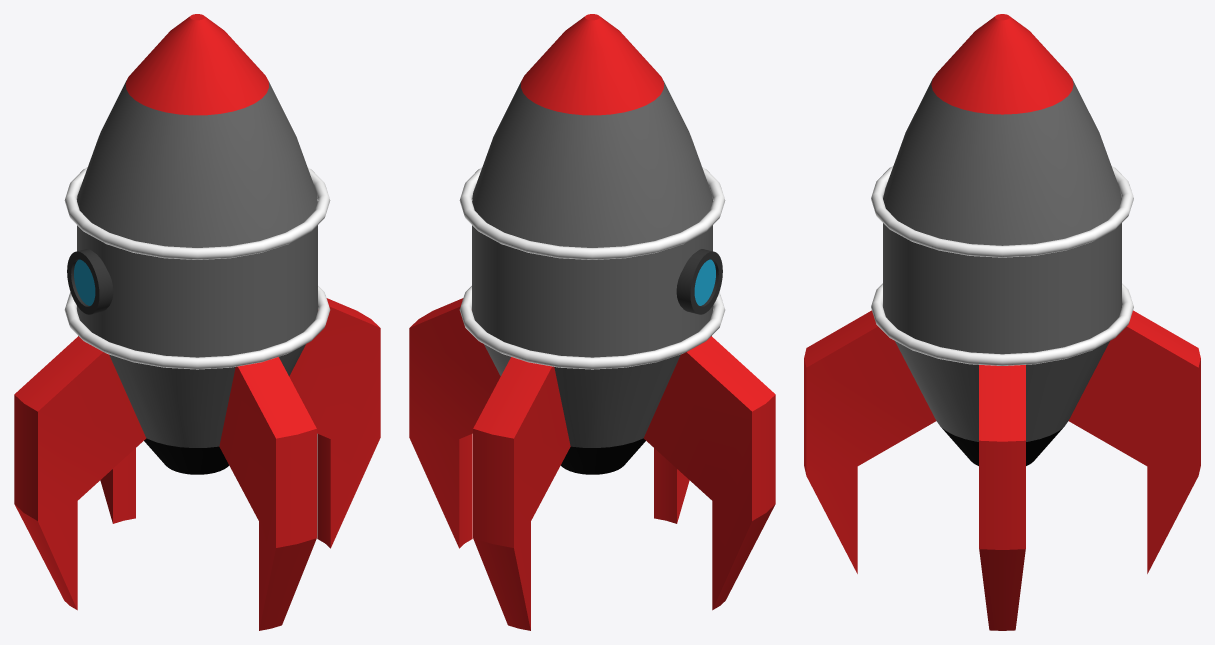
The model's file is rocket.gltf.
3 views of the same model, side by side, from view 1: azimuth 30°, elevation 25°; view 2: azimuth 150°, elevation 25°; view 3: azimuth 270°, elevation 25° (orthographic).
Parts seen in each view (by area): view 1: Cylinder_2, Torus_4, Torus.001_5, Cylinder.001_3; view 2: Cylinder_2, Torus_4, Torus.001_5, Cylinder.001_3; view 3: Cylinder_2, Torus_4, Torus.001_5.
Part boxes in pixels (x1,y1,x2,y2): Cylinder_2: (14,14,380,630); Torus_4: (64,167,330,259); Torus.001_5: (64,286,330,369); Cylinder.001_3: (67,249,113,314); Cylinder_2: (409,14,775,630); Torus_4: (459,167,725,259); Torus.001_5: (459,286,725,369); Cylinder.001_3: (676,249,722,314); Cylinder_2: (804,14,1200,630); Torus_4: (871,166,1133,257); Torus.001_5: (871,283,1133,365).
Bounding box in the file's own units: 3.32 × 5.09 × 3.32.
